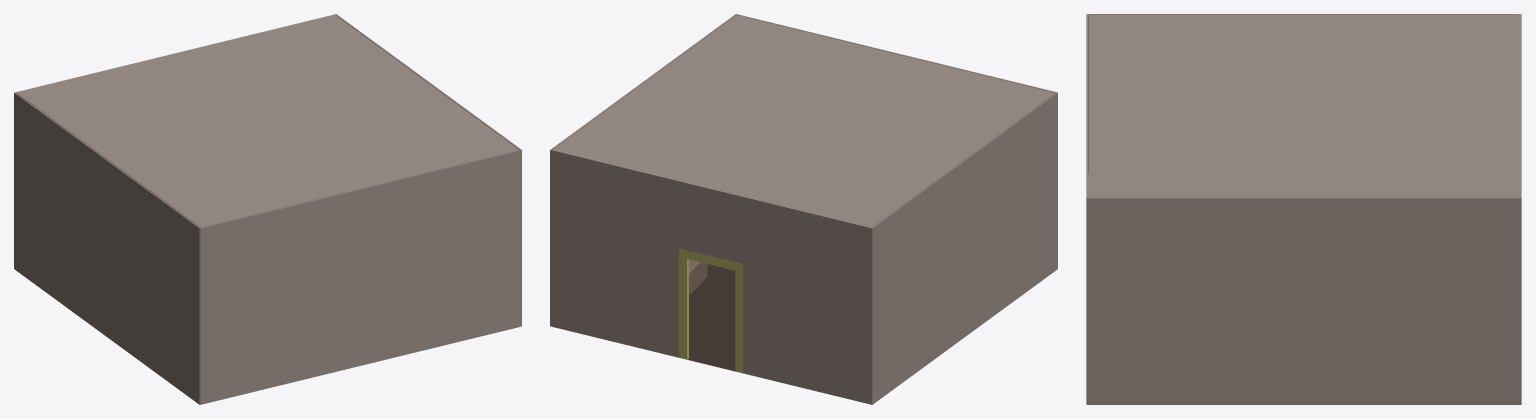
The model's file is Room16_Crypt.fbx.
3 renders of one model, left to right at view 1: azimuth 30°, elevation 25°; view 2: azimuth 150°, elevation 25°; view 3: azimuth 270°, elevation 25°, orthographic. The views are drawn at different scales.
Visible parts, largest first — view 1: Roof, WallPosZ, WallPosX, WallPosZ3, WallPosX10, WallNegX; view 2: Roof, WallSlicedNegZ, WallPosX, WallSlicedNegZ37, WallPosX10, Floor, DoorFrameNegZ, WallNegX, WallPosZ; view 3: Roof, WallNegX, WallNegX17, WallPosX, WallSlicedNegZ, WallPosZ.
Boxes of the visible parts, x1=… form: Roof: x1=17, y1=15, x2=518, y2=227; WallPosZ: x1=200, y1=150, x2=521, y2=364; WallPosX: x1=14, y1=92, x2=199, y2=364; WallPosZ3: x1=200, y1=286, x2=521, y2=404; WallPosX10: x1=14, y1=229, x2=199, y2=404; WallNegX: x1=335, y1=14, x2=521, y2=285; Roof: x1=553, y1=15, x2=1054, y2=227; WallSlicedNegZ: x1=550, y1=149, x2=871, y2=364; WallPosX: x1=871, y1=92, x2=1057, y2=364; WallSlicedNegZ37: x1=550, y1=286, x2=871, y2=404; WallPosX10: x1=870, y1=229, x2=1057, y2=404; Floor: x1=679, y1=264, x2=742, y2=373; DoorFrameNegZ: x1=679, y1=248, x2=743, y2=372; WallNegX: x1=550, y1=14, x2=736, y2=285; WallPosZ: x1=736, y1=14, x2=1057, y2=92; Roof: x1=1088, y1=15, x2=1519, y2=197; WallNegX: x1=1087, y1=197, x2=1521, y2=357; WallNegX17: x1=1087, y1=357, x2=1521, y2=404; WallPosX: x1=1087, y1=14, x2=1521, y2=174; WallSlicedNegZ: x1=1519, y1=14, x2=1521, y2=197; WallPosZ: x1=1086, y1=14, x2=1087, y2=357.
Size of the model in its own units: 802 by 421 by 801.
